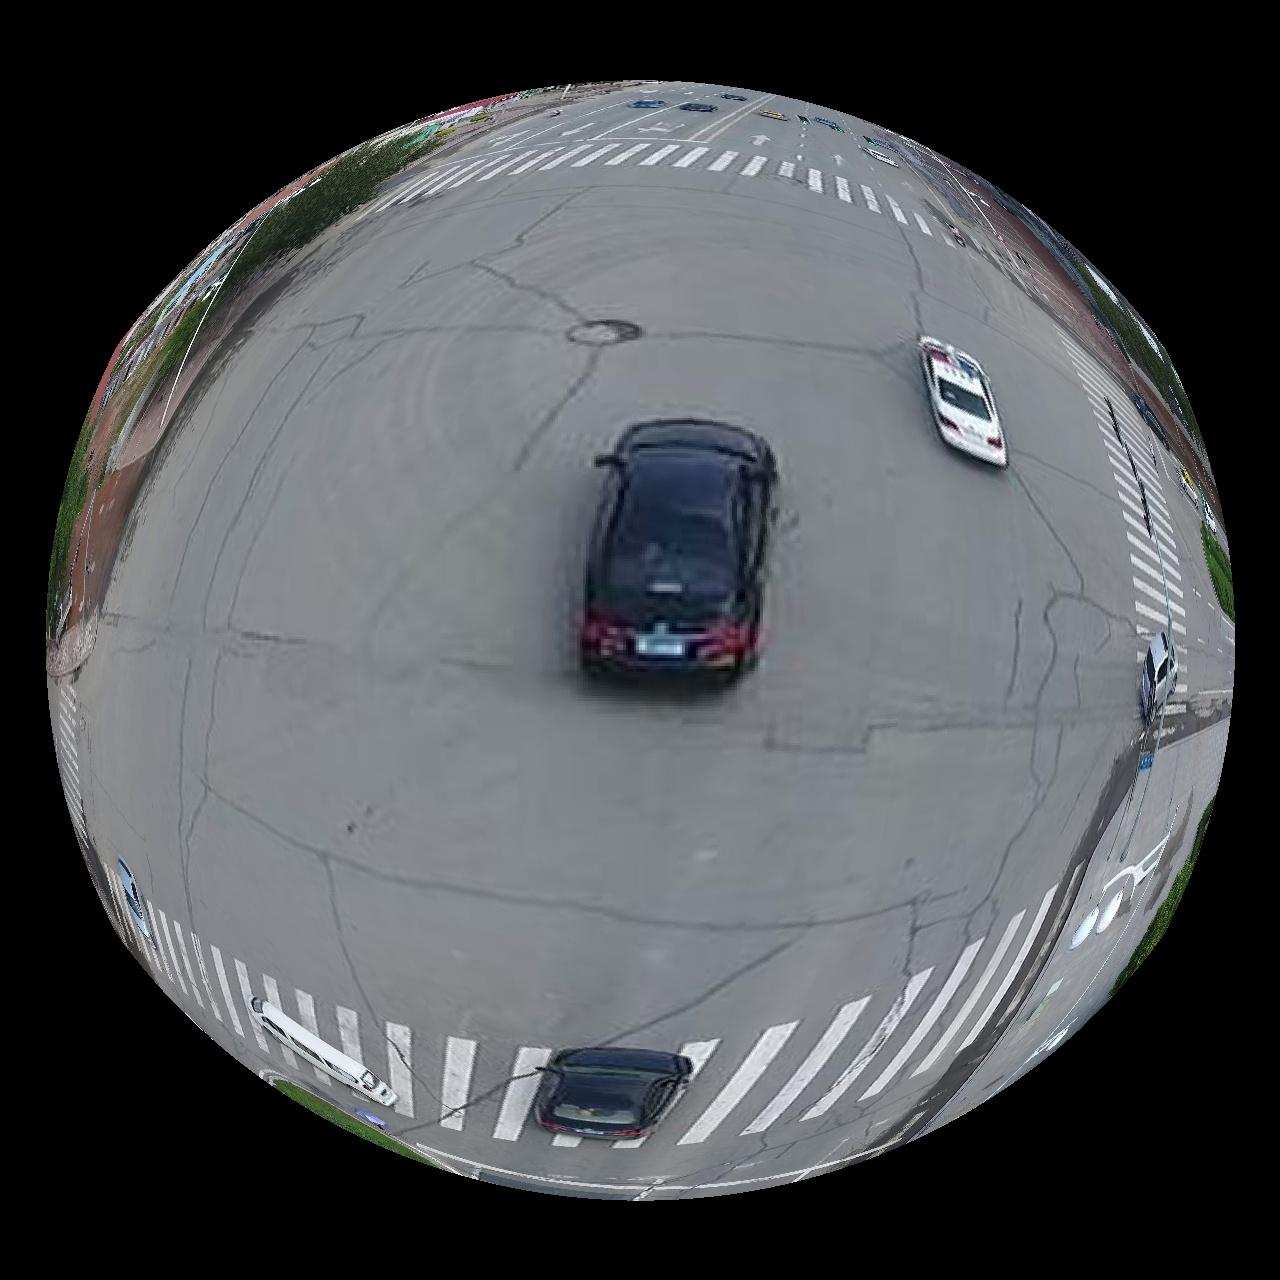cars: (580, 419, 777, 680), (246, 998, 396, 1108), (535, 1049, 695, 1140), (921, 336, 1010, 466), (1143, 631, 1181, 726), (116, 859, 153, 946)
trees: (1113, 821, 1206, 998), (1204, 525, 1236, 620)
